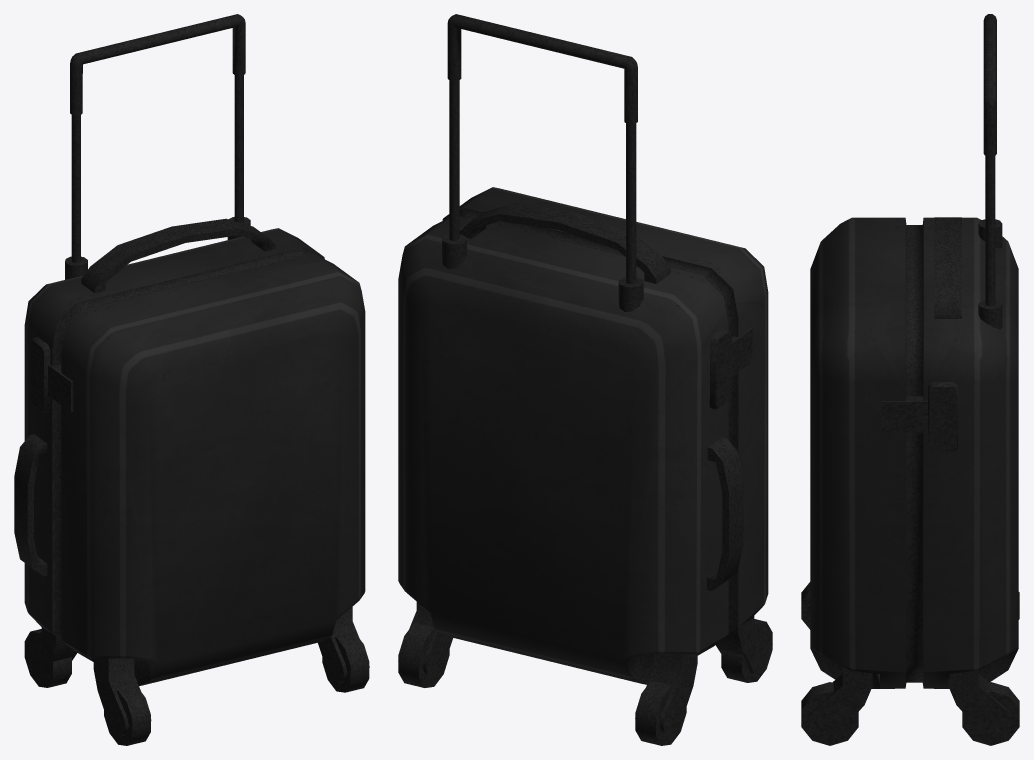
The model's file is suitcase_6.fbx.
3 views of the same model, side by side, from view 1: azimuth 30°, elevation 25°; view 2: azimuth 150°, elevation 25°; view 3: azimuth 270°, elevation 25° (orthographic). The views are drawn at different scales.
Visible parts, largest first — view 1: suitcase_6; view 2: suitcase_6; view 3: suitcase_6.
Boxes of the visible parts, bbox=[...] form: suitcase_6: bbox=[14, 14, 369, 745]; suitcase_6: bbox=[398, 14, 772, 745]; suitcase_6: bbox=[801, 14, 1019, 745].
Size of the model in its own units: 0.7689 by 1.52 by 0.4749.
